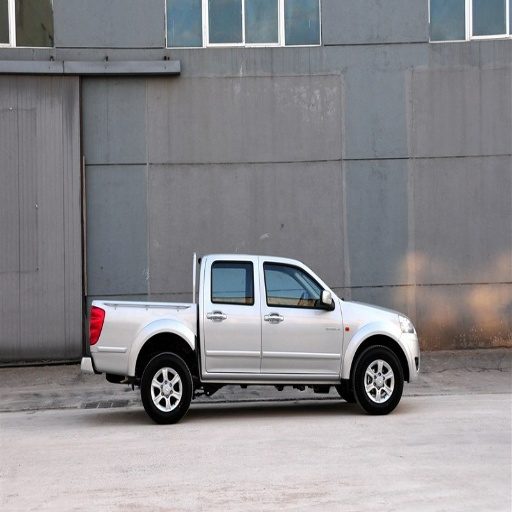back_right_door: (203, 260, 261, 371)
front_right_door: (261, 261, 343, 372)
tailgate: (84, 3, 143, 28)
trunk: (92, 299, 196, 378)
